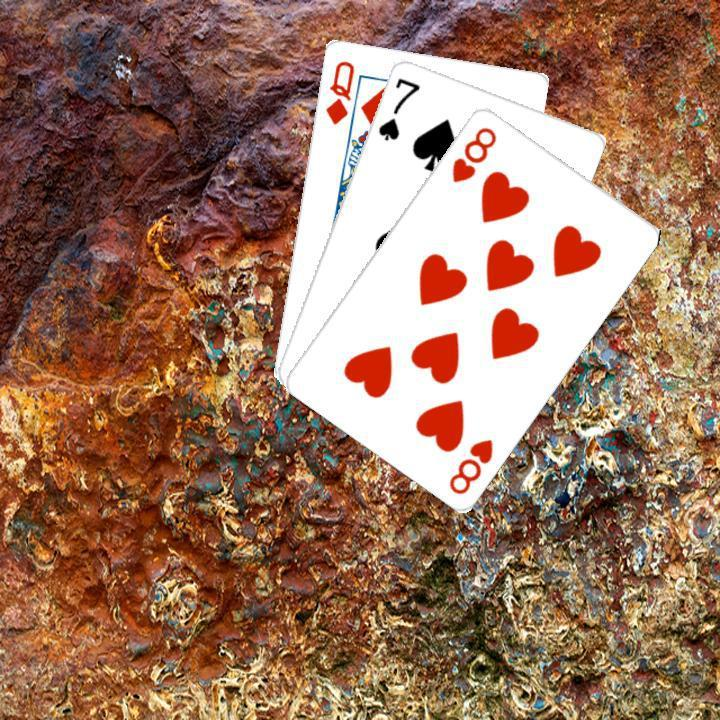7: (373, 72, 422, 142)
8: (447, 121, 499, 184), (444, 434, 495, 496)
Q: (320, 56, 356, 127)
